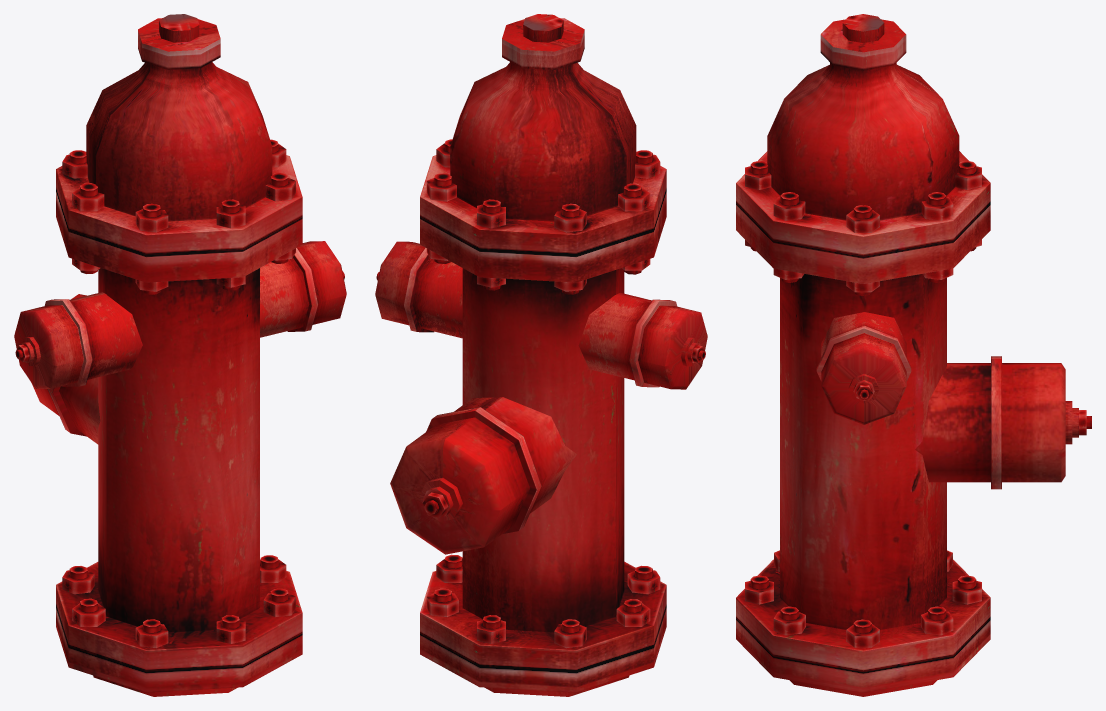
File: hydrant.fbx
The picture shows the model from 3 angles, left to right: view 1: azimuth 30°, elevation 25°; view 2: azimuth 150°, elevation 25°; view 3: azimuth 270°, elevation 25°; orthographic projection.
Parts seen in each view (by area): view 1: Mesh Object; view 2: Mesh Object; view 3: Mesh Object.
Boxes of the visible parts, <box> form: Mesh Object: <box>14,14,346,696</box>; Mesh Object: <box>375,14,707,696</box>; Mesh Object: <box>736,14,1091,696</box>.
Size of the model in its own units: 0.8401 by 1.57 by 0.7991.
